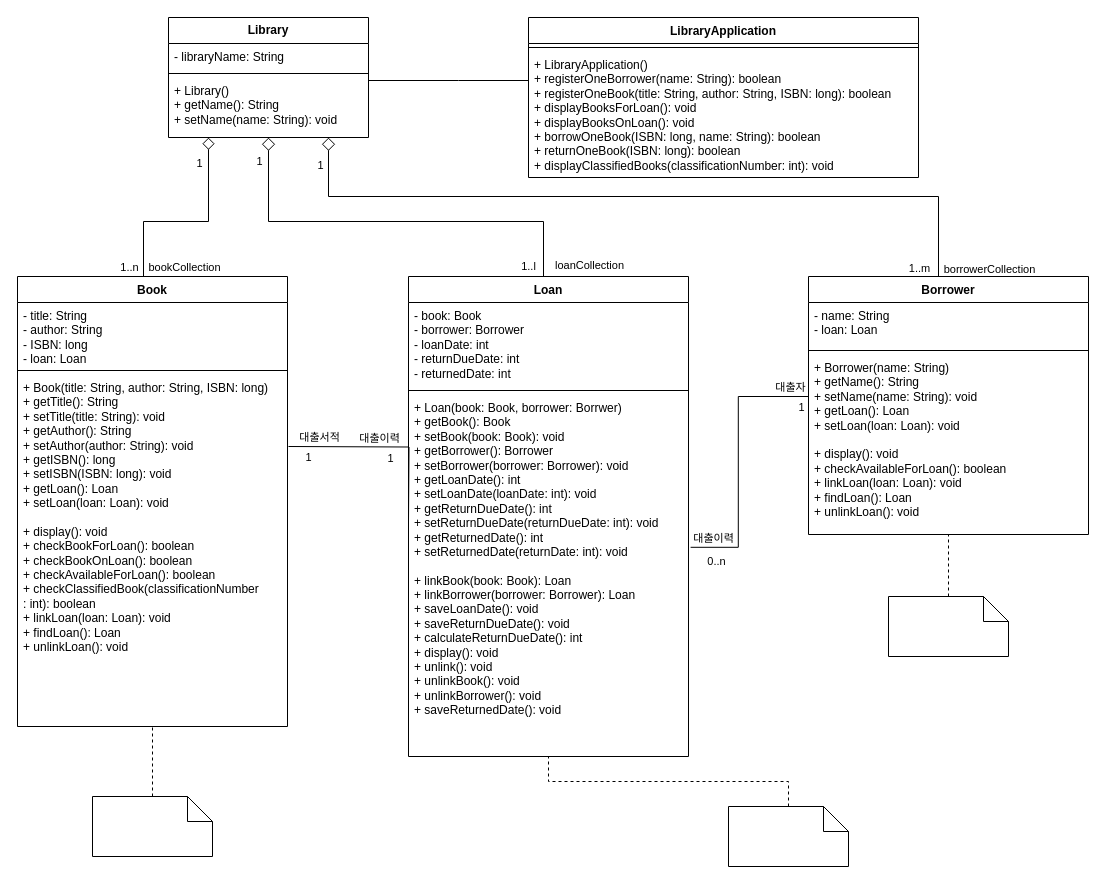
Image size: 1106x884. Some labels were removed from this diagram. The shapes that lost their labels are listed below. From the top down, each one's box as (x1, y1, x2, y2) in pixels, then its label:
(888, 596, 1008, 656): java.utill.HashSet
(92, 796, 212, 856): java.utill.TreeSet
(728, 806, 848, 866): java.utill.LinkedList
